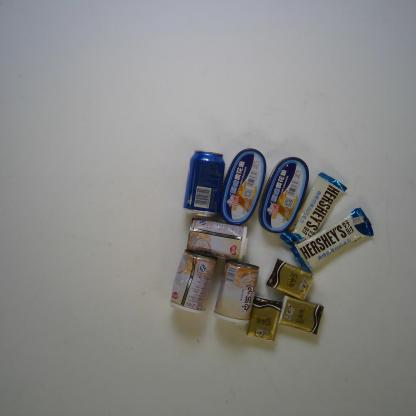Canned Food: (255, 153, 312, 234), (219, 148, 269, 226), (212, 258, 262, 327), (169, 248, 219, 316), (184, 212, 249, 262)
Chocolate: (290, 202, 378, 275), (279, 170, 349, 247)
Drink: (181, 149, 228, 219)
Tissue: (267, 256, 315, 301), (277, 292, 324, 336), (246, 294, 284, 343)
